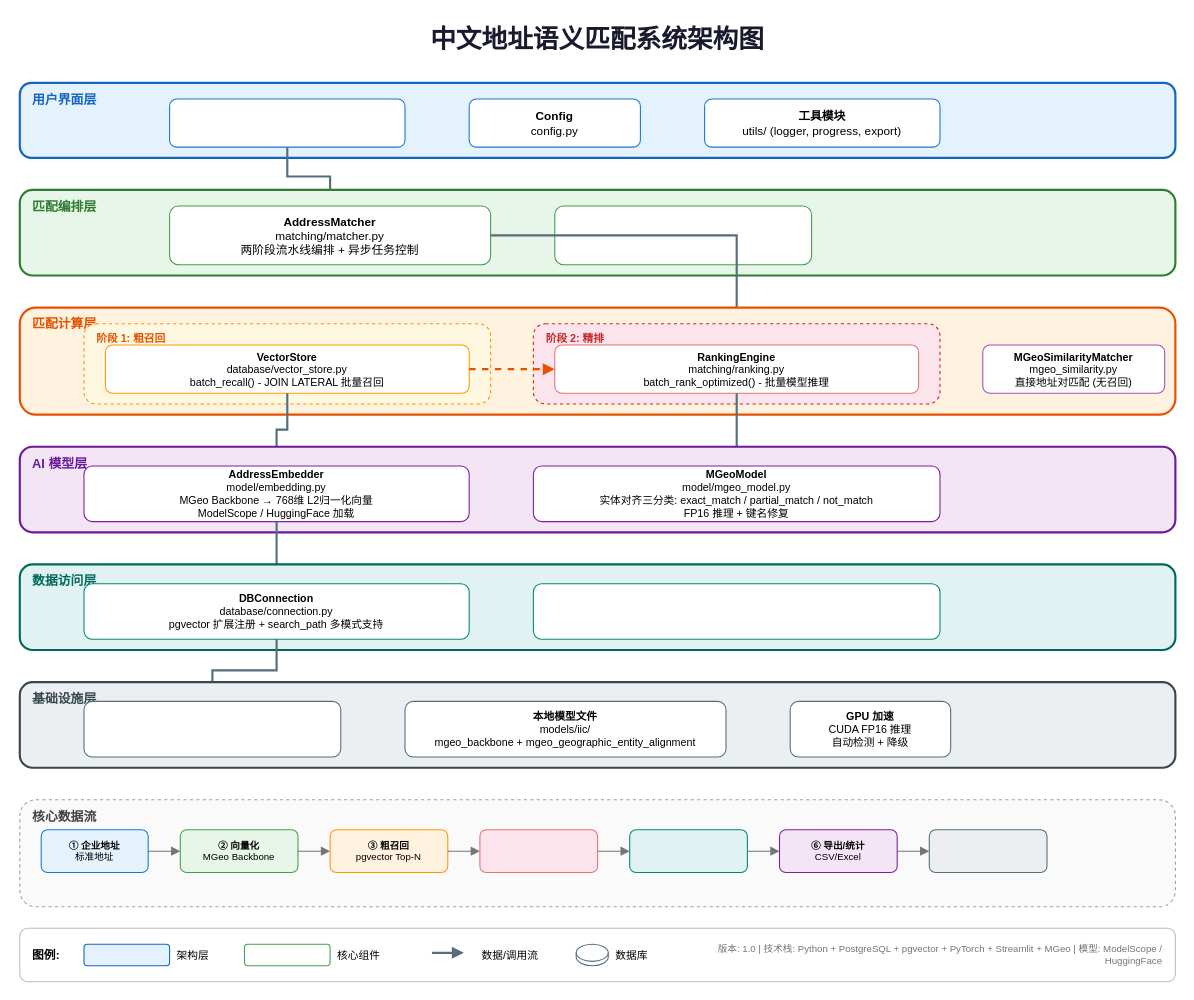
This 1194x1000 diagram has some shape labels left out. Here are the shapes that lost their labels. From the top down, the centre of each, then its label:
At point 287,122: "Streamlit App app.py (3500+ 行) 交互式 Web UI".
At point 683,235: "异步控制 start_async / pause / resume / stop 进度回调 + 线程安全".
At point 736,611: "DataLoader database/data_loader.py 分页加载 / 批量写入 / 统计 / 人工纠正 / 导出".
At point 212,728: "PostgreSQL + pgvector 向量存储 & 相似度检索".
At point 538,851: "④ 精排 MGeo 三分类".
At point 688,851: "⑤ 匹配结果 最佳标准地址".
At point 987,851: "⑦ 人工纠正 标记精确匹配".
